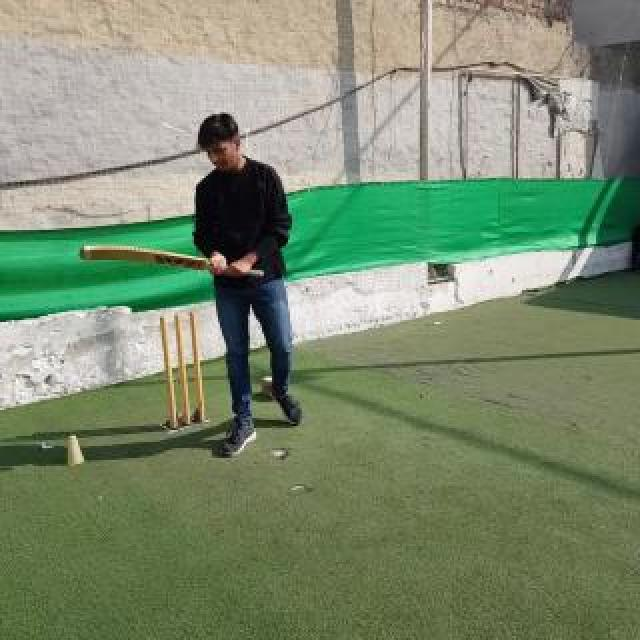bat: (80, 244, 264, 278)
